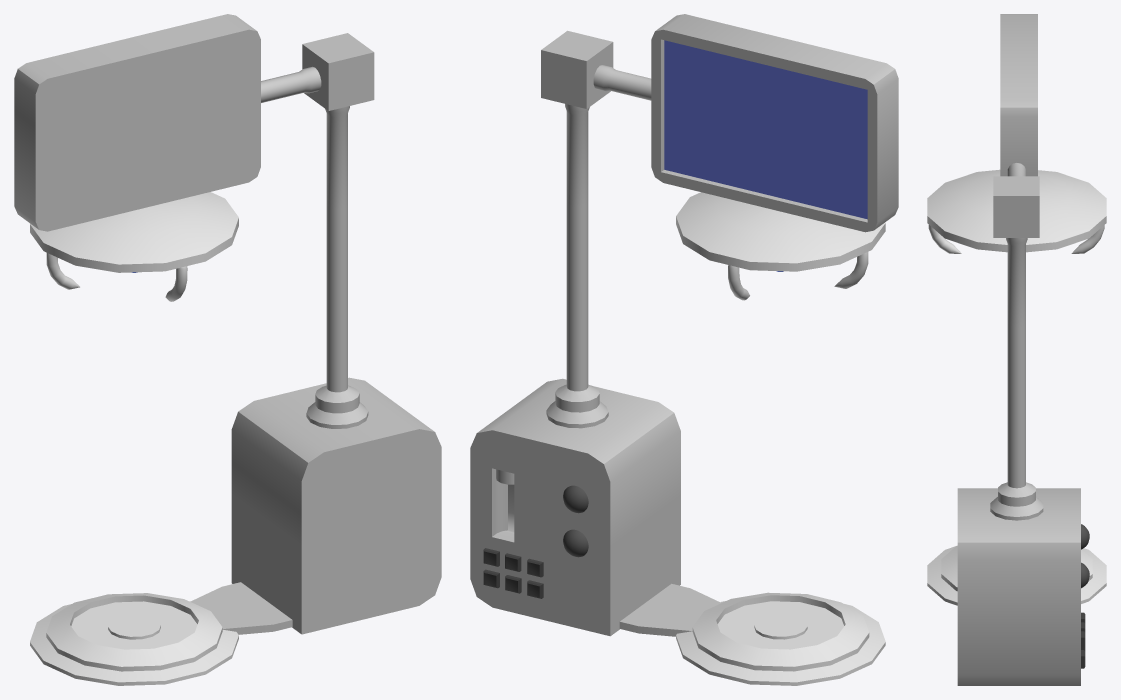
The model's file is portalModel.dae.
The picture shows the model from 3 angles, left to right: view 1: azimuth 30°, elevation 25°; view 2: azimuth 150°, elevation 25°; view 3: azimuth 270°, elevation 25°; orthographic projection. The views are drawn at different scales.
Parts seen in each view (by area): view 1: polySurface10, polySurface11, polySurface2; view 2: polySurface10, polySurface11, pCube5, polySurface4, polySurface2; view 3: polySurface10, polySurface11, polySurface2.
Part boxes in pixels (x1=…): polySurface10: x1=14, y1=14, x2=441, y2=634; polySurface11: x1=30, y1=192, x2=292, y2=685; polySurface2: x1=46, y1=253, x2=187, y2=301; polySurface10: x1=470, y1=14, x2=898, y2=636; polySurface11: x1=619, y1=192, x2=885, y2=685; pCube5: x1=664, y1=40, x2=867, y2=219; polySurface4: x1=483, y1=548, x2=543, y2=598; polySurface2: x1=728, y1=252, x2=868, y2=300; polySurface10: x1=957, y1=14, x2=1080, y2=685; polySurface11: x1=927, y1=169, x2=1106, y2=605; polySurface2: x1=928, y1=224, x2=1104, y2=253.
Bounding box in the file's own units: 14.28 × 21.34 × 6.63.
